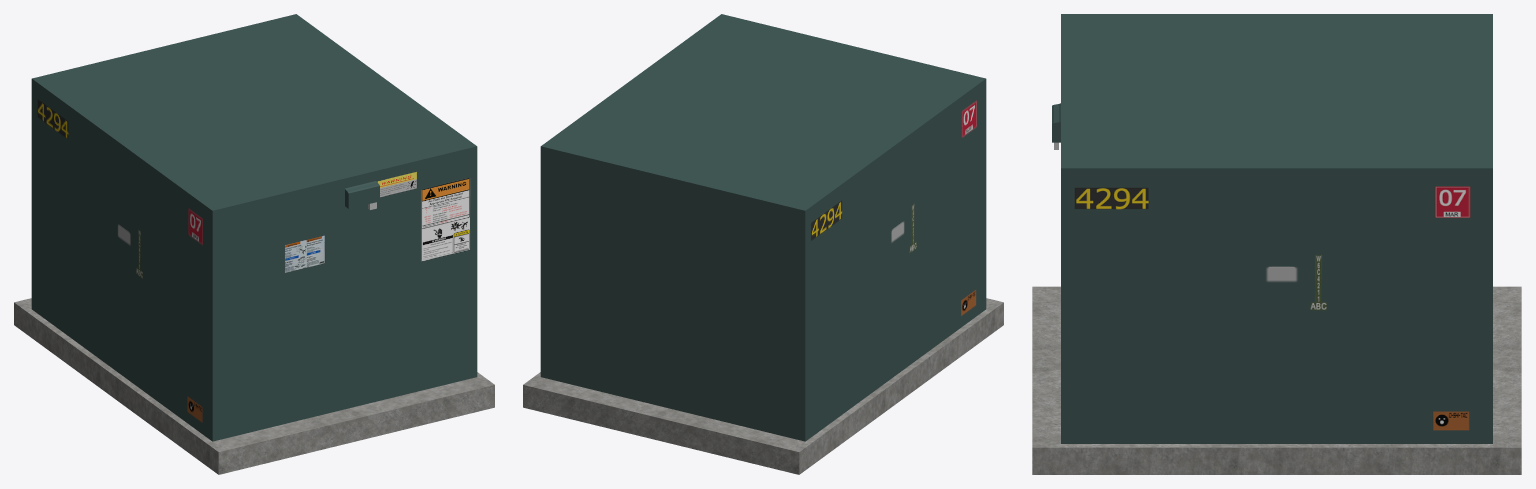
Rendered from electrical_transformer.glb.
The picture shows the model from 3 angles, left to right: view 1: azimuth 30°, elevation 25°; view 2: azimuth 150°, elevation 25°; view 3: azimuth 270°, elevation 25°; orthographic projection. The views are drawn at different scales.
Visible parts, largest first — view 1: Box001_2; view 2: Box001_2; view 3: Box001_2.
Boxes of the visible parts, x1=… form: Box001_2: x1=14, y1=14, x2=494, y2=474; Box001_2: x1=523, y1=14, x2=1003, y2=474; Box001_2: x1=1032, y1=14, x2=1521, y2=474.
Size of the model in its own units: 1.46 by 1.28 by 1.87.
1 material, 1 textured.
